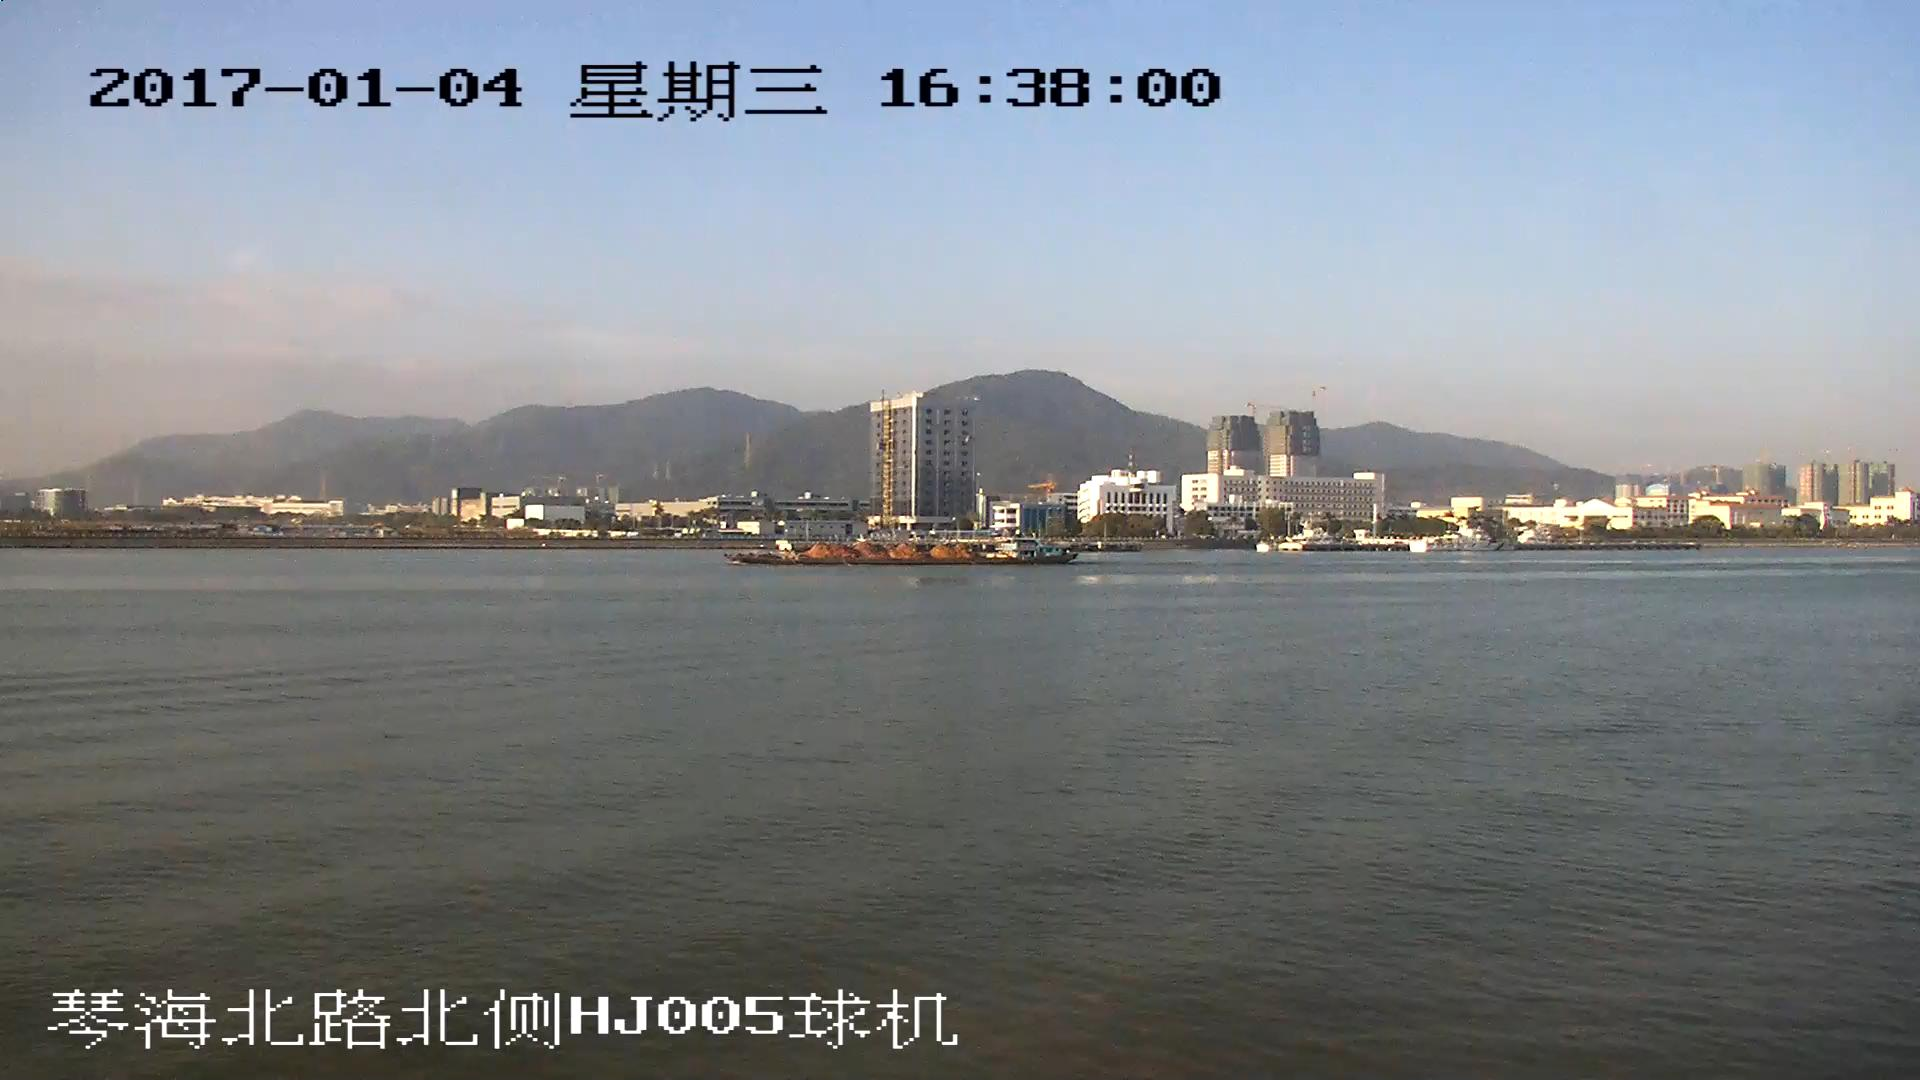ore carrier: (728, 538, 1075, 565)
